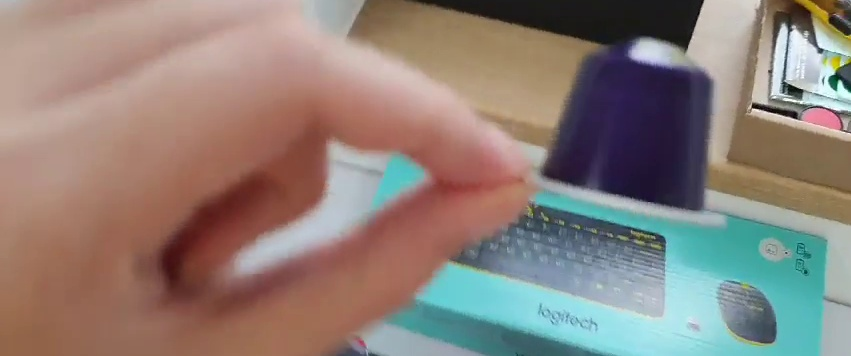capsule_11: (527, 33, 726, 231)
